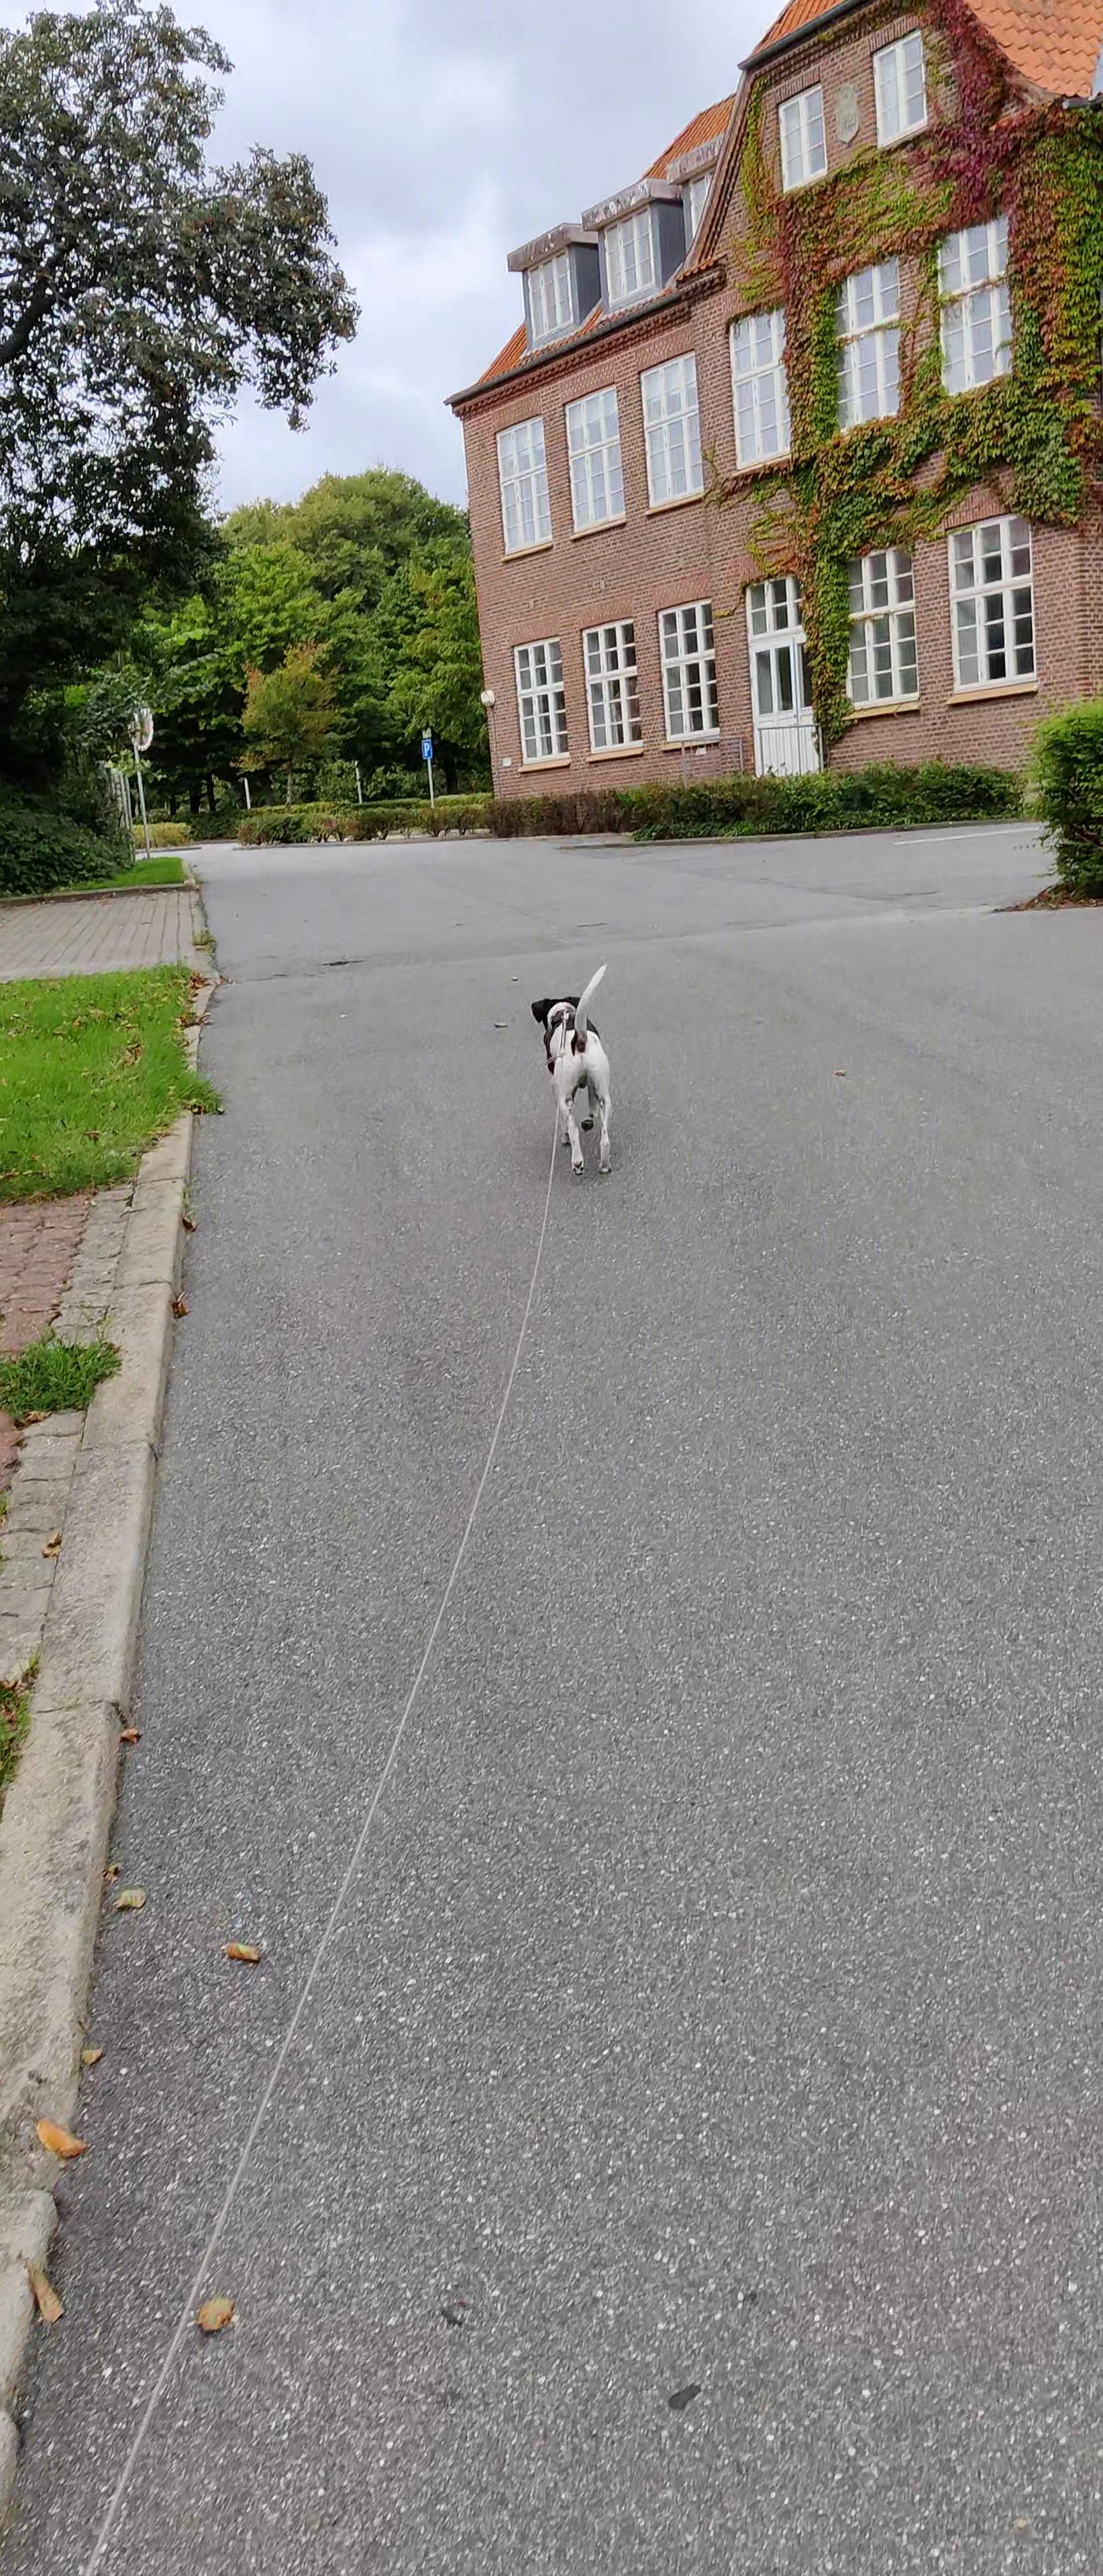Dog: (526, 961, 620, 1181)
